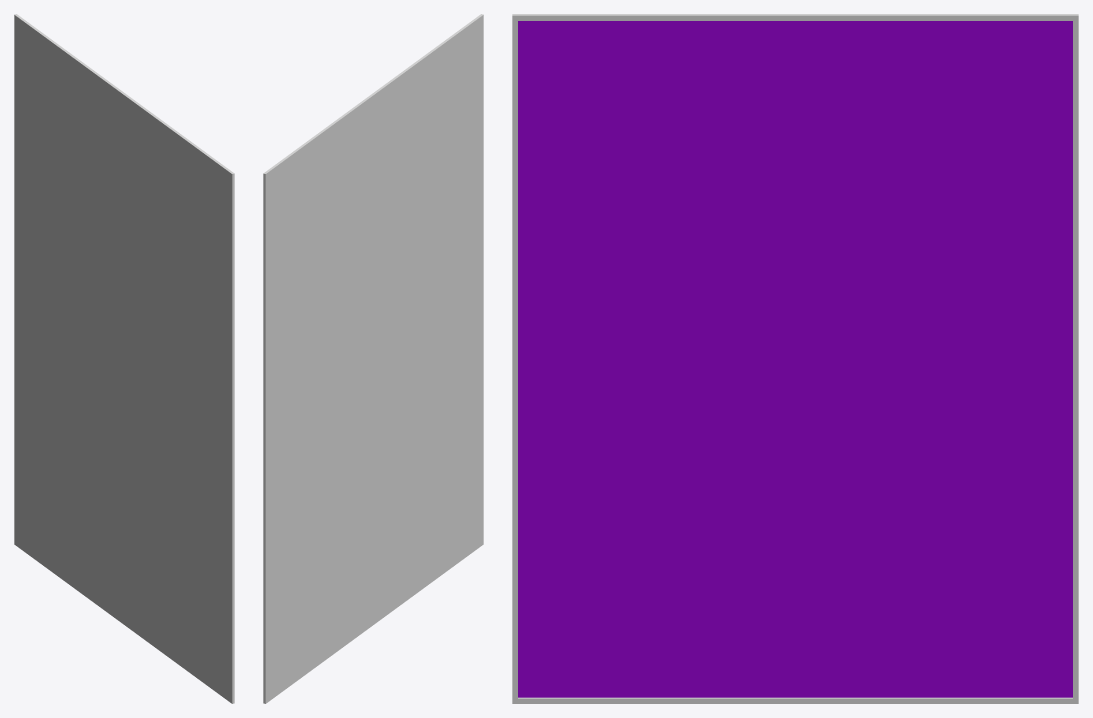
Rendered from Spiegel.glb.
3 renders of one model, left to right at view 1: azimuth 30°, elevation 25°; view 2: azimuth 150°, elevation 25°; view 3: azimuth 270°, elevation 25°, orthographic. The views are drawn at different scales.
Parts seen in each view (by area): view 1: Cube; view 2: Cube; view 3: Cube.
Boxes of the visible parts, x1,y1,x2,y2 form: Cube: (14, 14, 234, 703); Cube: (263, 14, 483, 703); Cube: (512, 14, 1078, 703).
Bounding box in the file's own units: 0.00368 × 0.7348 × 0.5479.
